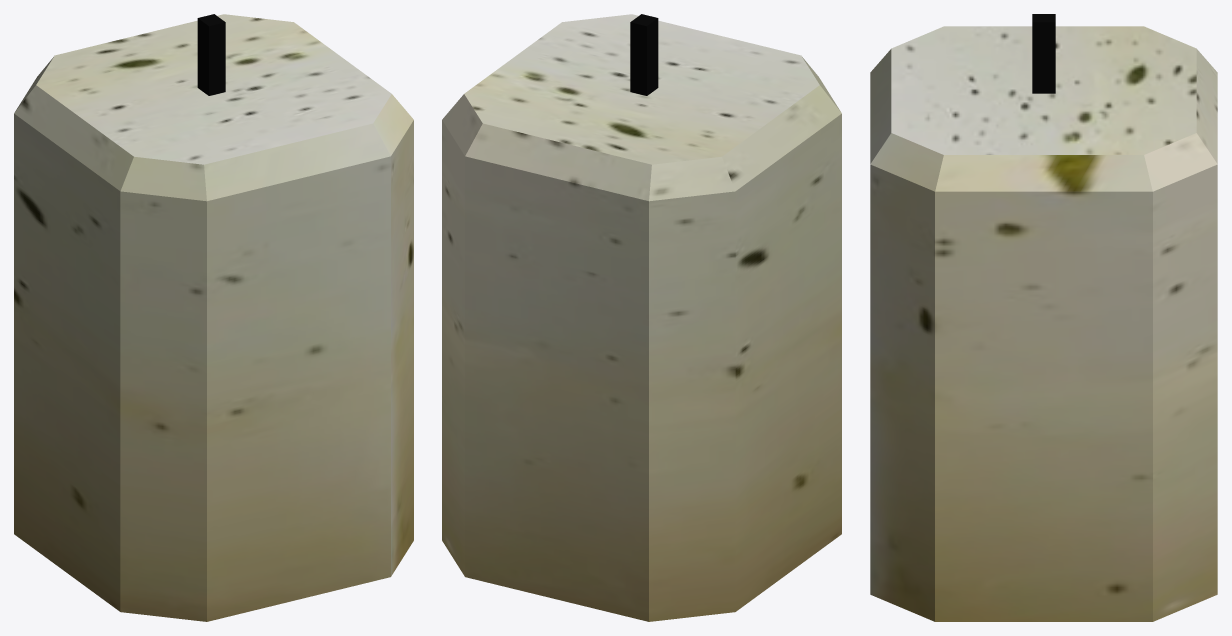
The model's file is FatCandle.fbx.
3 views of the same model, side by side, from view 1: azimuth 30°, elevation 25°; view 2: azimuth 150°, elevation 25°; view 3: azimuth 270°, elevation 25° (orthographic). The views are drawn at different scales.
Parts seen in each view (by area): view 1: fat_candle; view 2: fat_candle; view 3: fat_candle.
Part boxes in pixels (<box>): fat_candle: <box>14,14,413,621</box>; fat_candle: <box>442,14,841,621</box>; fat_candle: <box>870,14,1217,621</box>.
Bounding box in the file's own units: 0.3083 × 0.3091 × 0.5198.
